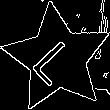L_NE: (28, 30, 86, 87)
